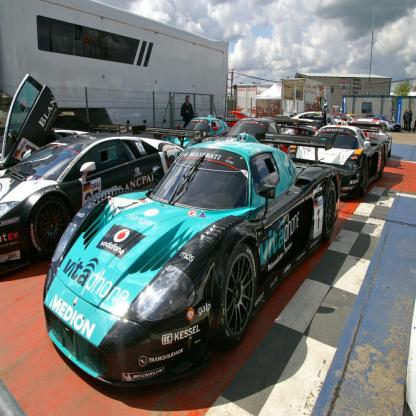Car: (42, 128, 343, 389), (1, 75, 185, 277), (292, 124, 389, 198), (164, 117, 231, 153), (228, 119, 296, 143), (350, 119, 394, 155), (299, 110, 338, 131)
